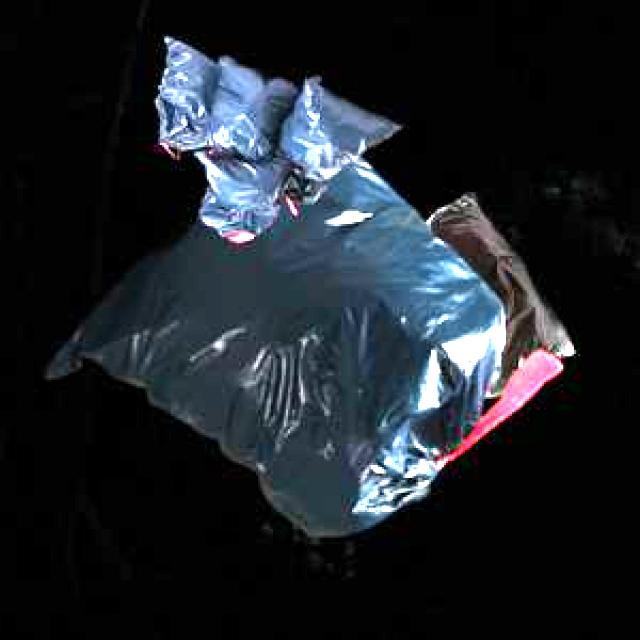Garbage_Bag: (42, 155, 560, 532), (152, 33, 398, 238), (424, 191, 570, 394)
